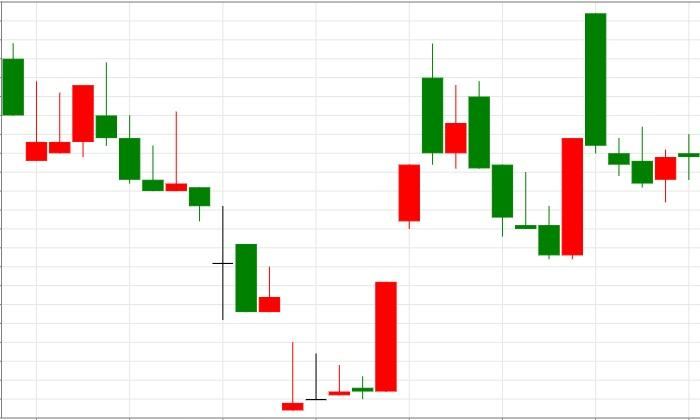bullish_engulfing_rise: (421, 43, 584, 259)
shooting_star_fall: (26, 62, 118, 161)
three_black_crows_fall: (539, 14, 654, 259)
